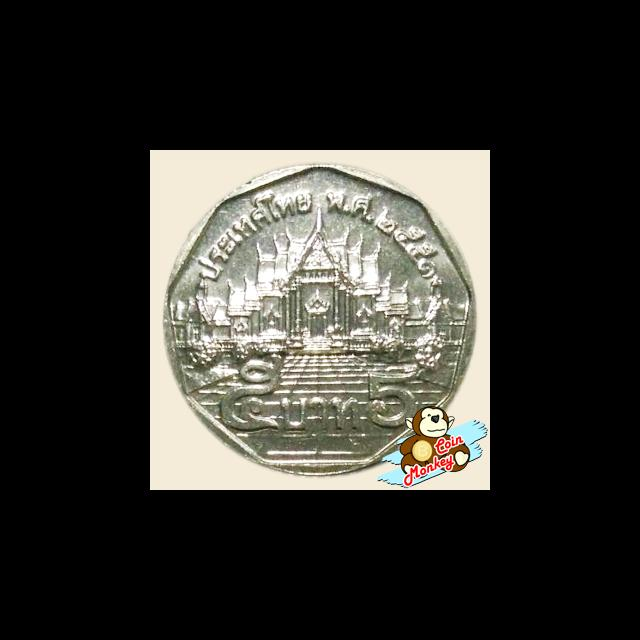5-baht: (165, 163, 476, 482)
